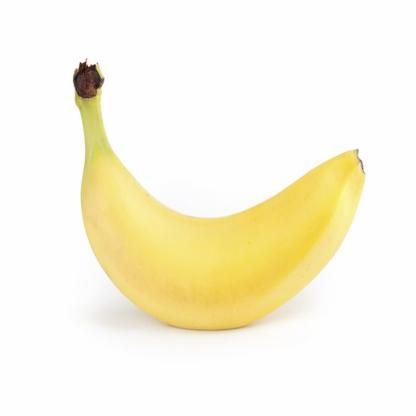banana: (81, 96, 365, 343)
